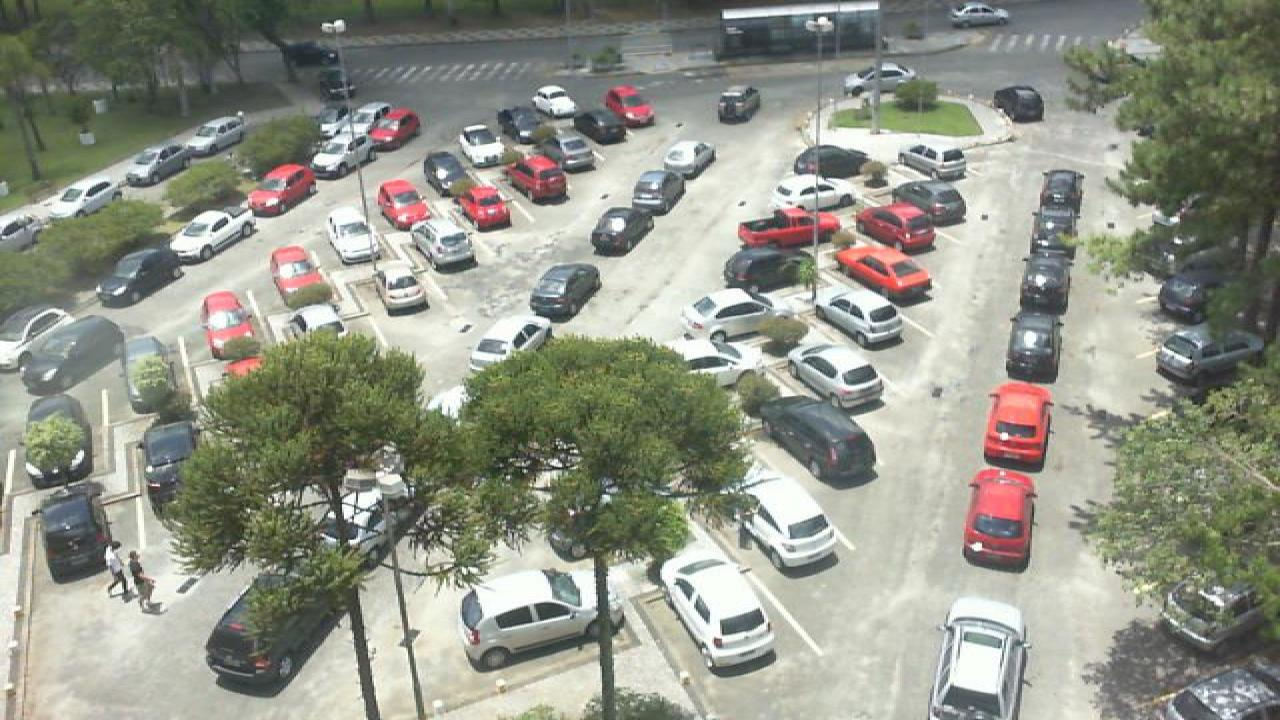Car: (204, 566, 342, 690), (460, 568, 622, 672), (658, 554, 778, 672), (928, 596, 1034, 720), (756, 394, 880, 484), (736, 470, 844, 570), (20, 315, 122, 393), (966, 467, 1042, 569), (16, 393, 96, 485), (1154, 324, 1268, 386), (1162, 661, 1280, 720), (980, 382, 1054, 472), (38, 495, 112, 583), (810, 282, 906, 348), (788, 343, 884, 407), (94, 248, 188, 308), (836, 246, 936, 301), (466, 312, 552, 374), (166, 207, 256, 262), (720, 244, 816, 294), (0, 305, 72, 371), (680, 285, 772, 335), (140, 422, 196, 503), (738, 207, 842, 250), (120, 353, 180, 425), (528, 260, 602, 318), (856, 201, 936, 253), (1004, 312, 1062, 382), (198, 289, 256, 358), (268, 246, 330, 308), (1154, 263, 1218, 323), (246, 163, 316, 216), (890, 178, 968, 225), (1016, 252, 1074, 314), (410, 216, 474, 270), (122, 142, 196, 188), (326, 204, 382, 263), (40, 177, 122, 217), (774, 174, 864, 210), (284, 300, 348, 349), (590, 205, 654, 254), (680, 338, 742, 386), (506, 154, 566, 202), (374, 260, 428, 313), (376, 179, 430, 231), (792, 144, 872, 179), (182, 111, 246, 153), (458, 180, 514, 228), (628, 169, 686, 215), (842, 60, 920, 94), (896, 144, 968, 180), (362, 106, 420, 148), (1036, 168, 1086, 214), (1030, 208, 1080, 254), (456, 124, 508, 168), (602, 84, 656, 126), (422, 150, 472, 195), (546, 132, 602, 172), (992, 83, 1046, 124), (310, 136, 362, 178), (662, 139, 716, 179), (576, 108, 626, 144), (716, 84, 760, 122), (950, 1, 1012, 27), (530, 86, 576, 120)
